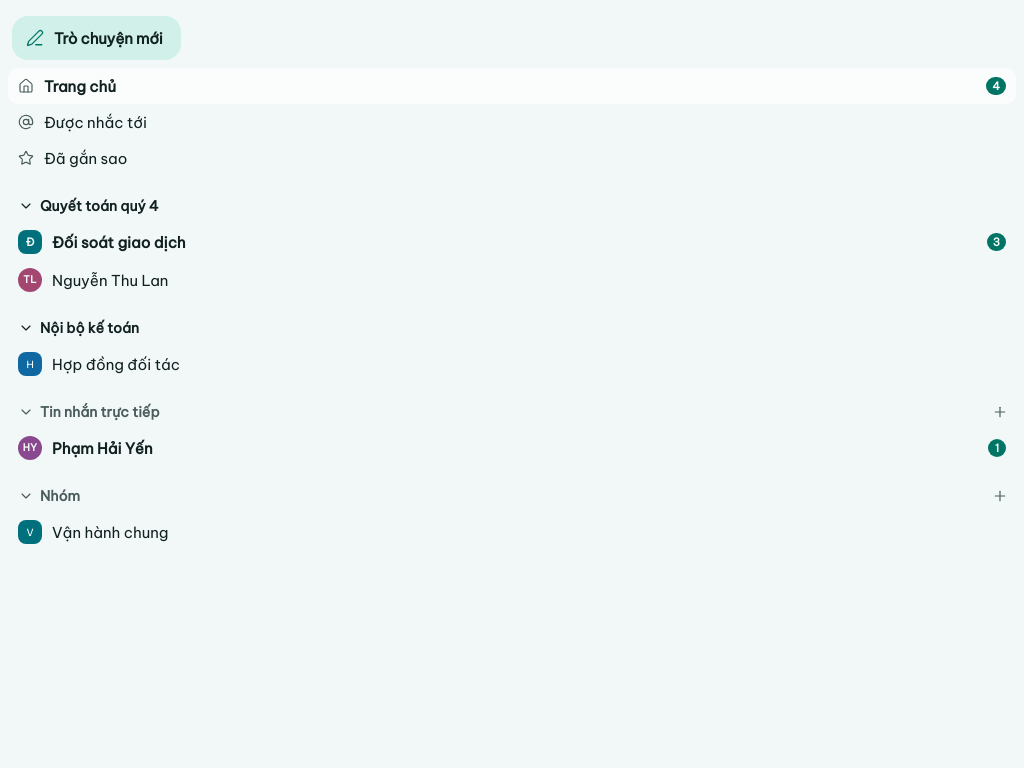
Test: creating a section › "Tạo mục" opens a name popover; Enter creates the section at the end and says so
Expected: the list named "Quyết toán quý 4" is shown, [8,224,1016,298]
Click the button "Trò chuyện mới" at (96, 38), box [12,16,181,60]
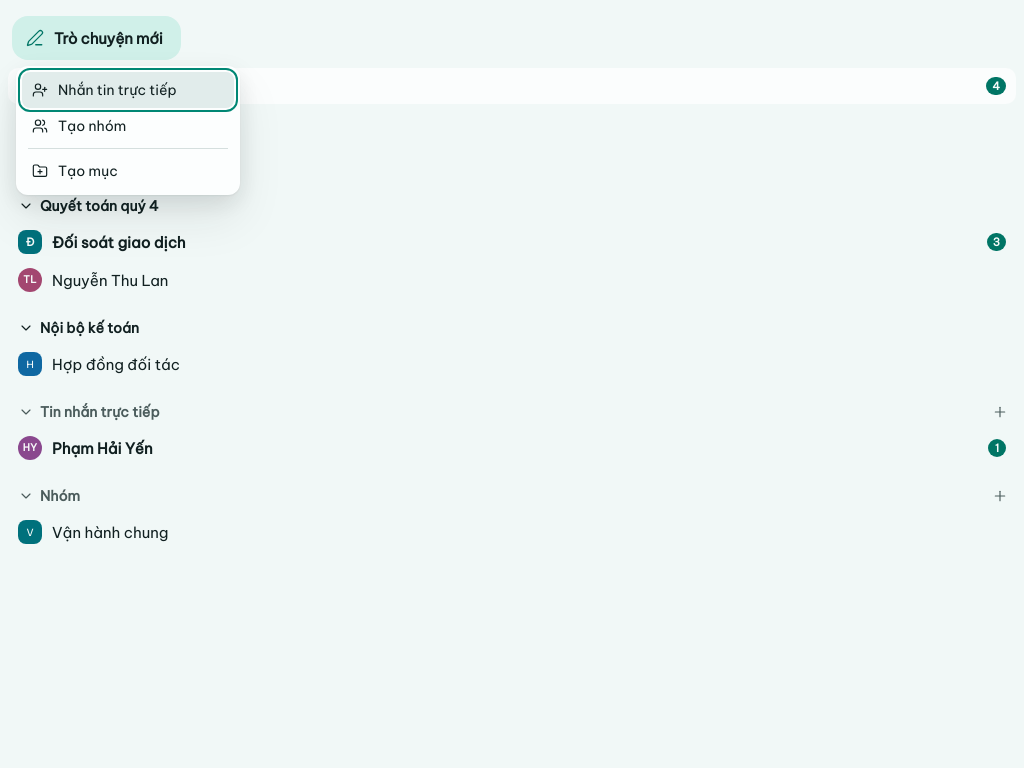
Click the menu item "Tạo mục" at (128, 171), box [22,153,234,189]
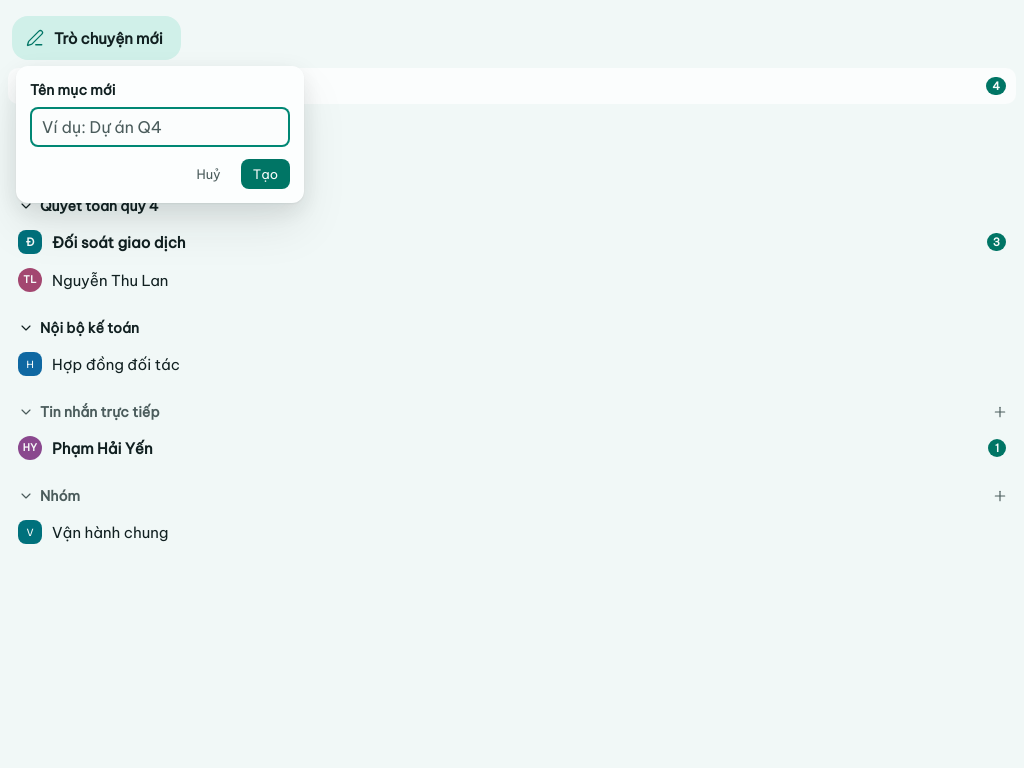
Type "  Dự án Q4  " into the field labelled "Tên mục mới" at (160, 127), box [42,107,278,147]
Then press Enter
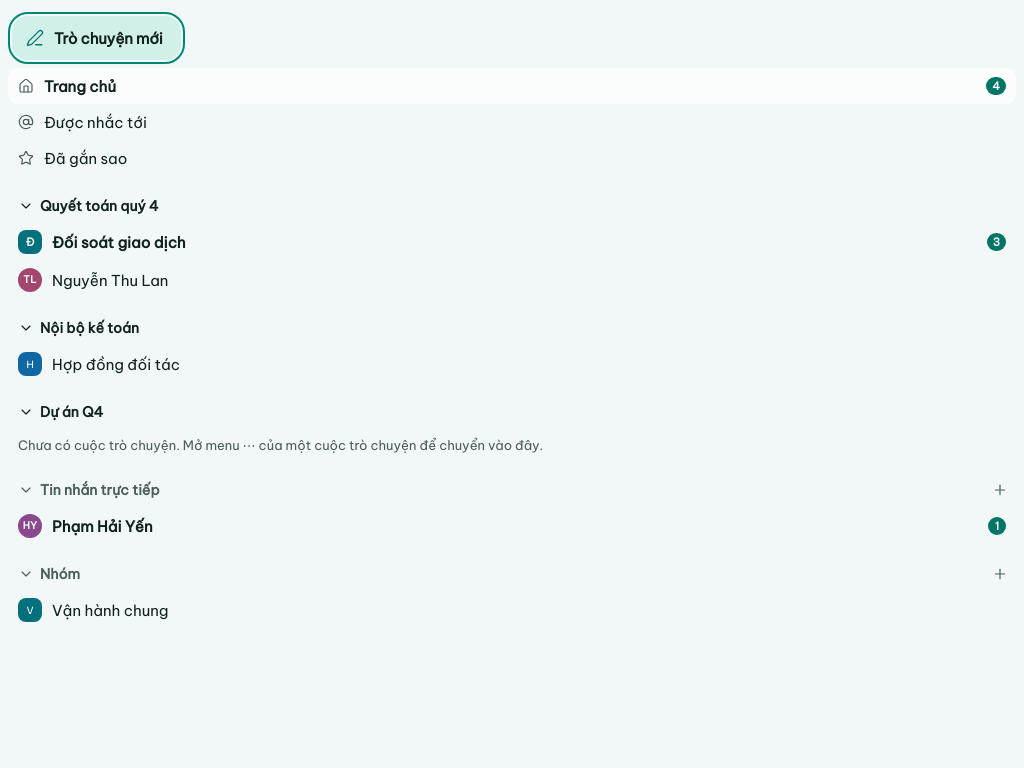
Expected: the label "Tên mục mới" is gone
